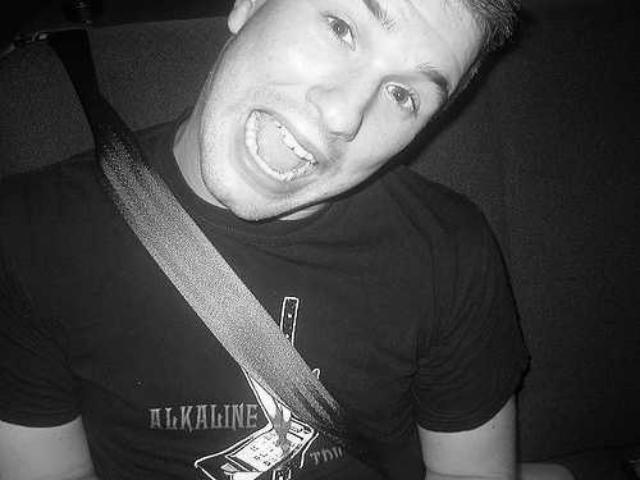SafeDriving: (372, 69, 428, 119), (316, 0, 363, 56)
Seatbelt: (51, 29, 356, 452)
